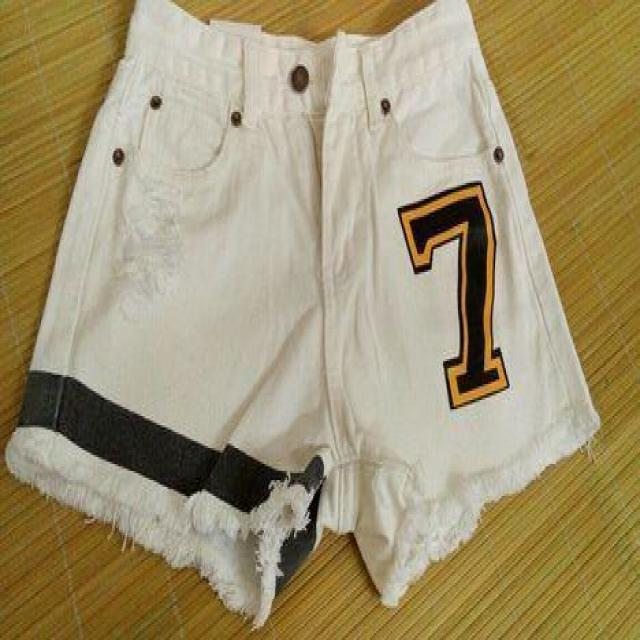shorts: (7, 2, 600, 601)
